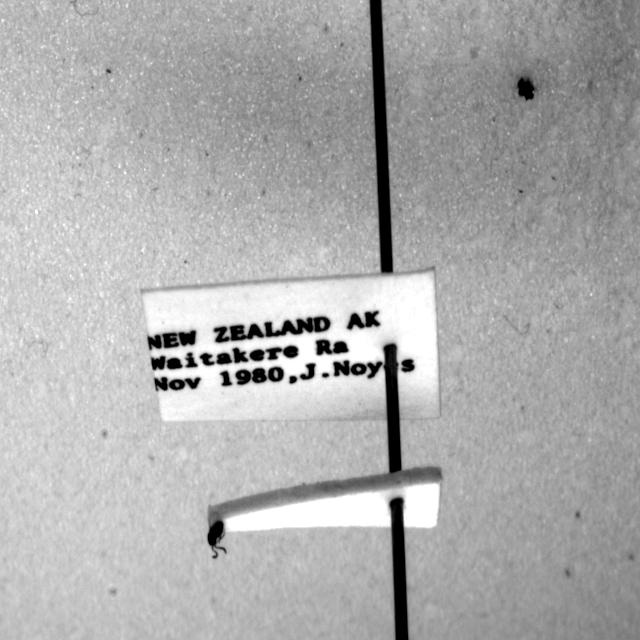typed_label: (142, 268, 440, 422)
